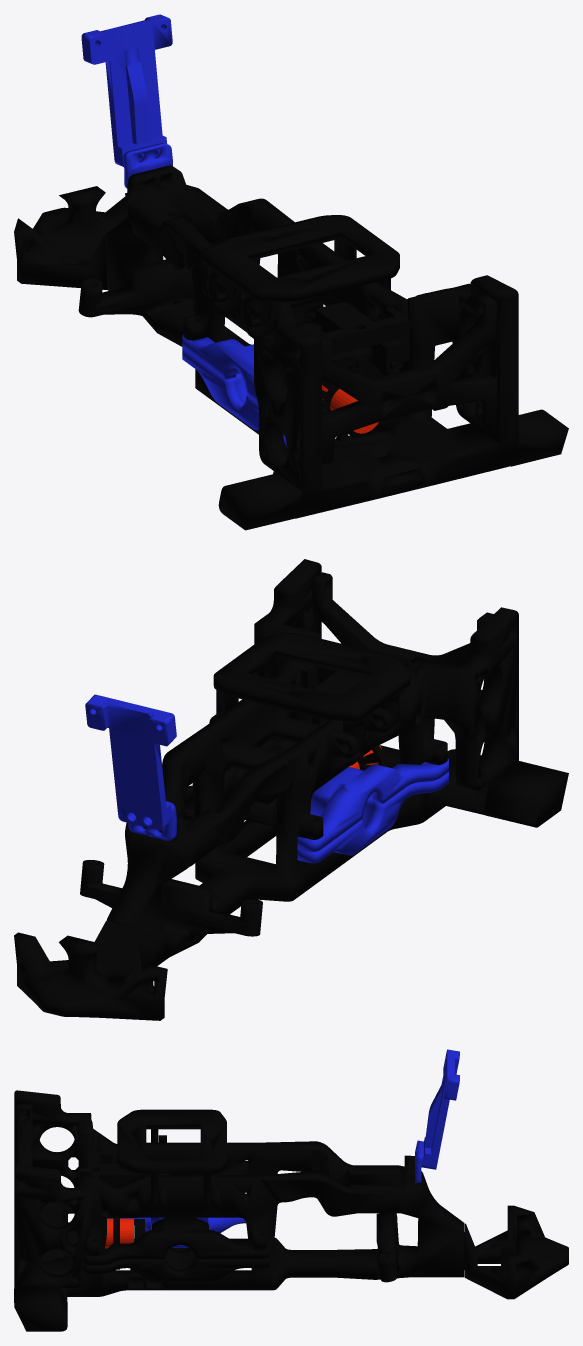
Rendered from chassis3.glb.
The picture shows the model from 3 angles, top to bottom: view 1: azimuth 30°, elevation 25°; view 2: azimuth 150°, elevation 25°; view 3: azimuth 270°, elevation 25°; orthographic projection. The views are drawn at different scales.
Visible parts, largest first — view 1: ChassisMain, MISC1.008, MISC1.002, ViZio1.2_CameraSupport35deg.001, MISC1.005, EncoderSupport, MISC1.003, LIGATURE_SMALL, MISC1, LIGATURE_SMALL.001, Axle, 10degCamSupport; view 2: ChassisMain, MISC1.008, MISC1.005, ViZio1.2_CameraSupport35deg.001, LIGATURE_SMALL, MISC1.003, MISC1.002, LIGATURE_SMALL.001, EncoderSupport, LIGATURE_LARGE.001, LIGATURE_LARGE.002, 10degCamSupport; view 3: ChassisMain, MISC1.008, MISC1.005, LIGATURE_LARGE.001, LIGATURE_LARGE.002, MISC1, ViZio1.2_CameraSupport35deg.001, EncoderSupport, MISC1.002, Axle, LIGATURE_SMALL.001.
Boxes of the visible parts, box(x1,y1,x2,y2) form: ChassisMain: box(78, 165, 518, 518); MISC1.008: box(203, 215, 399, 327); MISC1.002: box(316, 294, 496, 464); ViZio1.2_CameraSupport35deg.001: box(81, 14, 172, 166); MISC1.005: box(14, 186, 127, 289); EncoderSupport: box(315, 301, 409, 381); MISC1.003: box(218, 473, 302, 530); LIGATURE_SMALL: box(182, 334, 284, 435); MISC1: box(511, 409, 568, 466); LIGATURE_SMALL.001: box(182, 348, 287, 447); Axle: box(322, 356, 383, 443); 10degCamSupport: box(123, 143, 172, 188); ChassisMain: box(80, 559, 518, 970); MISC1.008: box(213, 633, 410, 750); MISC1.005: box(14, 920, 167, 1020); ViZio1.2_CameraSupport35deg.001: box(85, 694, 176, 830); LIGATURE_SMALL: box(297, 758, 448, 851); MISC1.003: box(484, 761, 568, 827); MISC1.002: box(312, 572, 493, 741); LIGATURE_SMALL.001: box(297, 772, 448, 863); EncoderSupport: box(300, 664, 364, 724); LIGATURE_LARGE.001: box(184, 737, 295, 820); LIGATURE_LARGE.002: box(245, 798, 276, 827); 10degCamSupport: box(128, 801, 176, 840); ChassisMain: box(14, 1090, 464, 1306); MISC1.008: box(117, 1109, 226, 1206); MISC1.005: box(464, 1205, 568, 1299); LIGATURE_LARGE.001: box(83, 1217, 268, 1265); LIGATURE_LARGE.002: box(83, 1247, 268, 1281); MISC1: box(14, 1288, 67, 1331); ViZio1.2_CameraSupport35deg.001: box(421, 1049, 459, 1169); EncoderSupport: box(79, 1147, 141, 1196); MISC1.002: box(16, 1103, 32, 1258); Axle: box(105, 1218, 133, 1269); LIGATURE_SMALL.001: box(107, 1217, 246, 1247).
Size of the model in its own units: 14.06 by 11.42 by 27.63.
